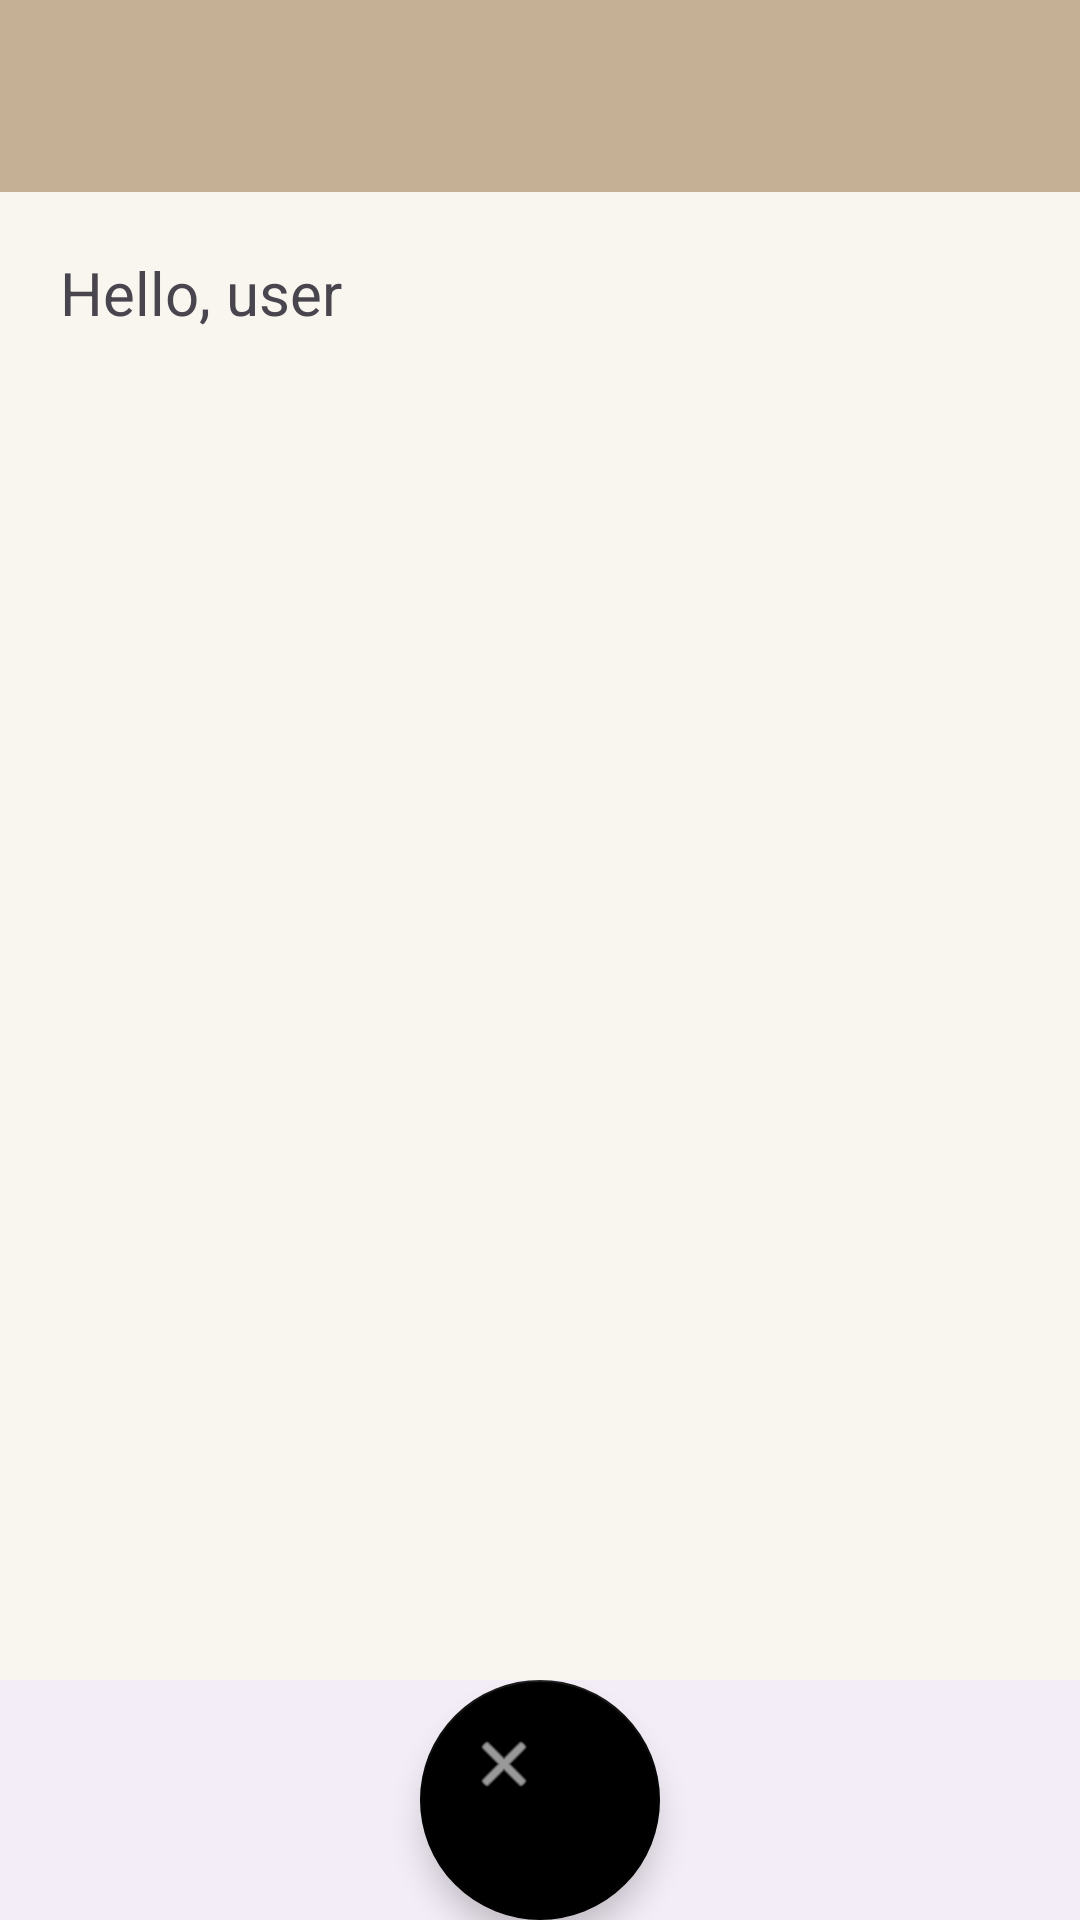

Named icons in this screenshot (1080 × 1920) and their bounding boxes, (x1, y1, x2, y2):
Cancel: (420, 1680, 660, 1920)
